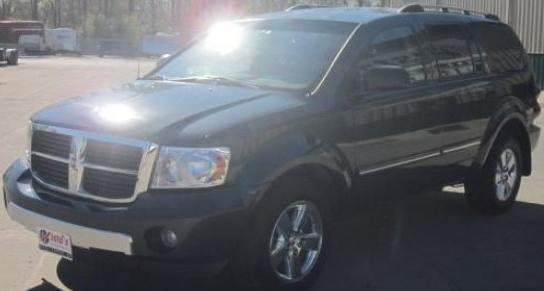front_view: (11, 121, 261, 269)
headlight: (151, 133, 235, 203)
side_glass: (361, 15, 504, 84)
